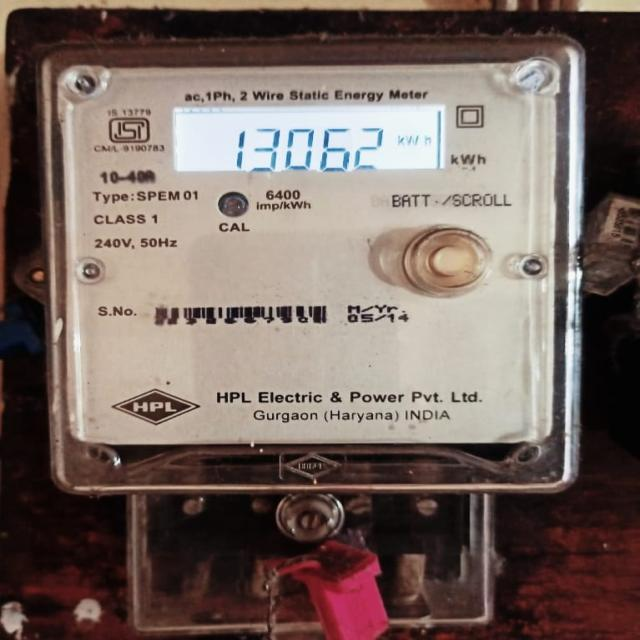display: (173, 109, 441, 171)
